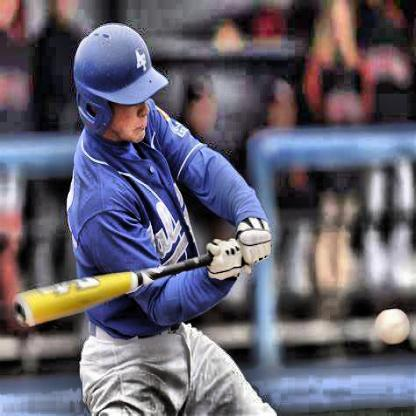baseball: (374, 303, 410, 348)
